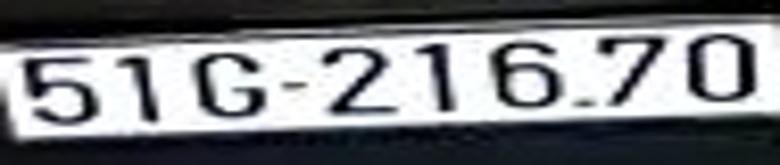-: (280, 78, 311, 94)
.: (573, 88, 598, 112)
0: (681, 29, 763, 107)
1: (114, 50, 164, 128), (416, 39, 459, 116)
2: (319, 43, 402, 117)
5: (21, 54, 101, 126)
6: (489, 39, 564, 111)
7: (597, 35, 668, 110)
G: (192, 47, 269, 123)
